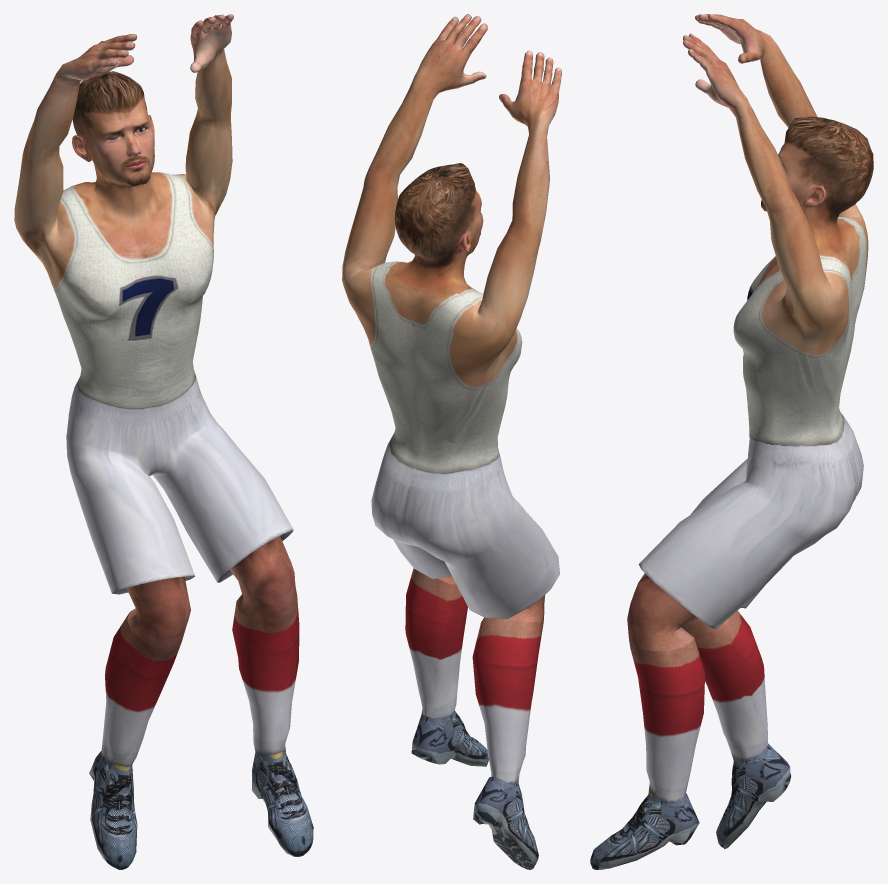
File: basketball-shooter-ball-free.glb
3 renders of one model, left to right at view 1: azimuth 30°, elevation 25°; view 2: azimuth 150°, elevation 25°; view 3: azimuth 270°, elevation 25°, orthographic. The views are drawn at different scales.
Parts seen in each view (by area): view 1: H_DDS_MidRes__Body_Mid_0; view 2: H_DDS_MidRes__Body_Mid_0; view 3: H_DDS_MidRes__Body_Mid_0.
Part boxes in pixels (x1,y1,x2,y2): H_DDS_MidRes__Body_Mid_0: (14,14,313,869); H_DDS_MidRes__Body_Mid_0: (342,14,561,869); H_DDS_MidRes__Body_Mid_0: (590,14,873,869).
Bounding box in the file's own units: 0.4861 × 1.95 × 0.5918.
9 materials, 6 textured.
